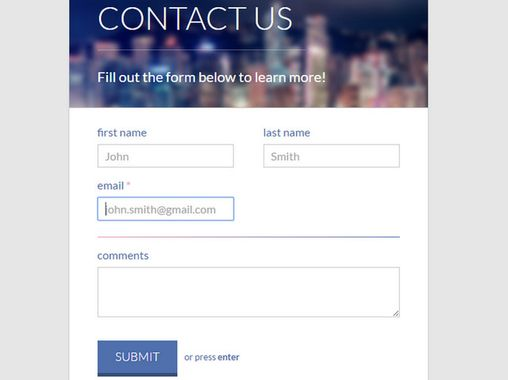_form_: (57, 1, 473, 380)
button: (96, 339, 179, 378)
field: (96, 265, 401, 319), (95, 195, 239, 223), (261, 143, 403, 170), (97, 143, 237, 170)
